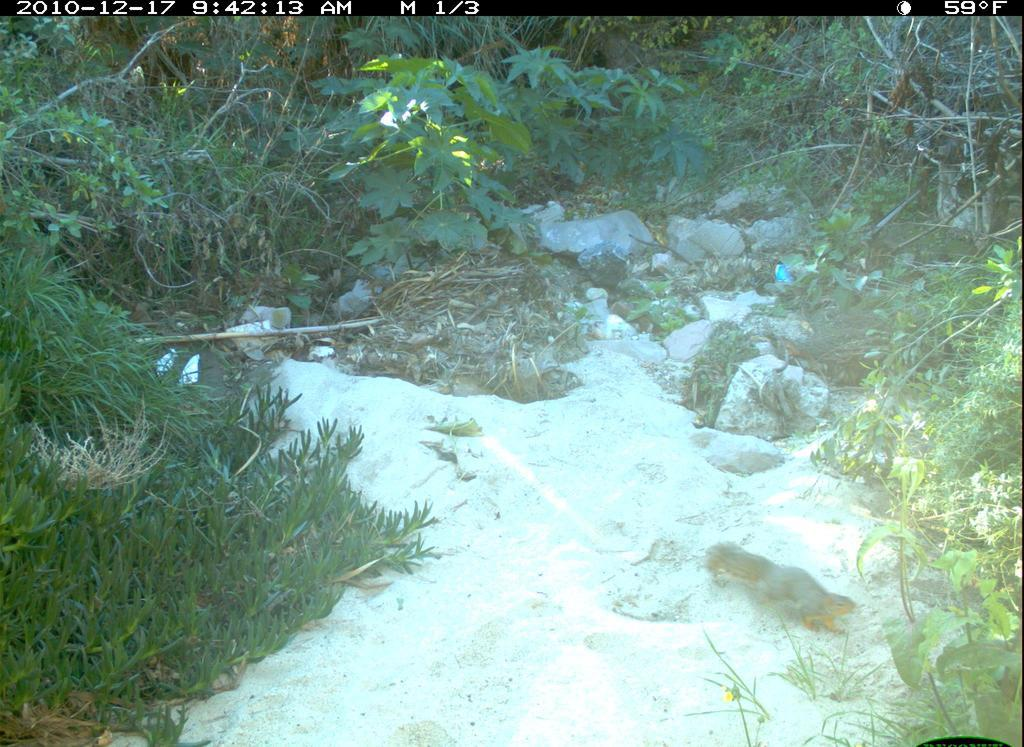squirrel: (703, 536, 865, 643)
